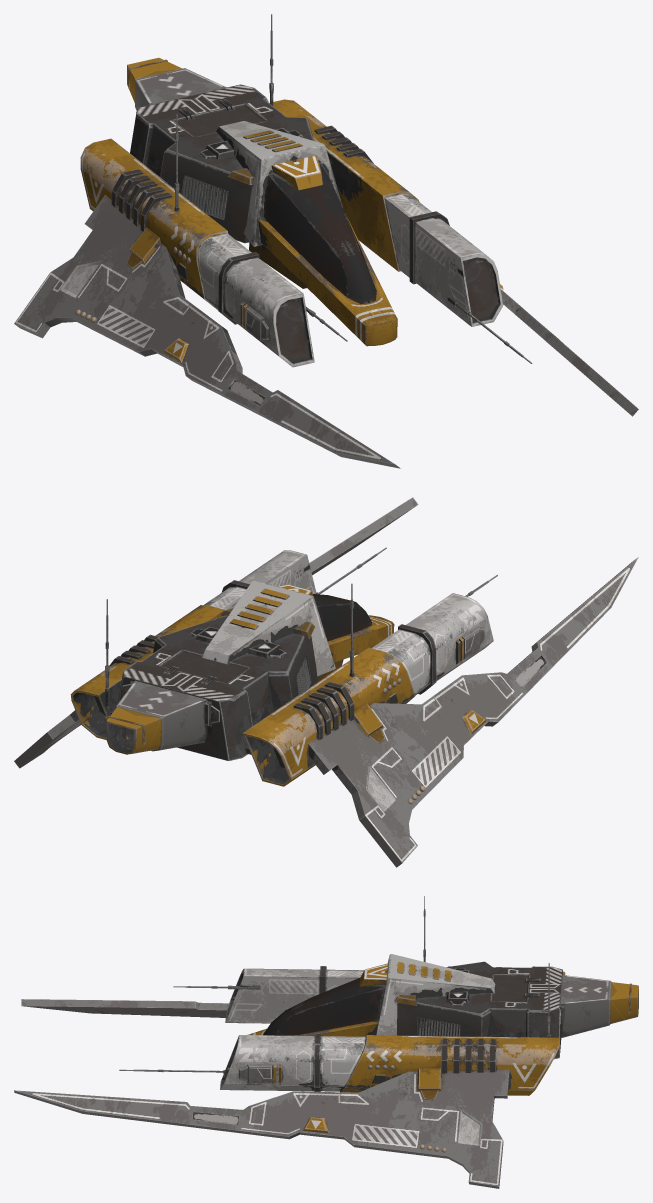
Rendered from Striker_1.fbx.
3 views of the same model, one above another, from view 1: azimuth 30°, elevation 25°; view 2: azimuth 150°, elevation 25°; view 3: azimuth 270°, elevation 25° (orthographic). The views are drawn at different scales.
Visible parts, largest first — view 1: Striker; view 2: Striker; view 3: Striker.
Part boxes in pixels (left/top/right/bottom): Striker: left=14, top=14, right=638, bottom=468; Striker: left=14, top=497, right=638, bottom=867; Striker: left=14, top=896, right=638, bottom=1188.
Bounding box in the file's own units: 894 × 283 × 531.
